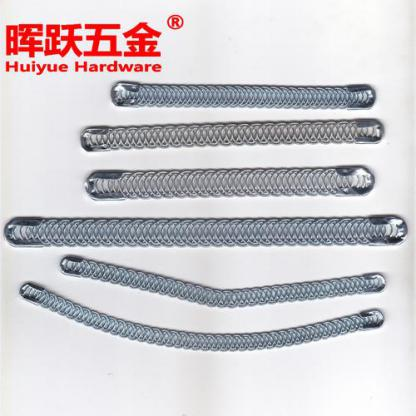FOD: (105, 75, 378, 111)
